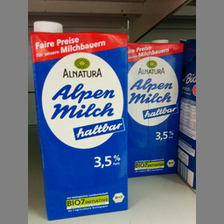milk: (32, 20, 132, 220), (125, 38, 183, 175)
